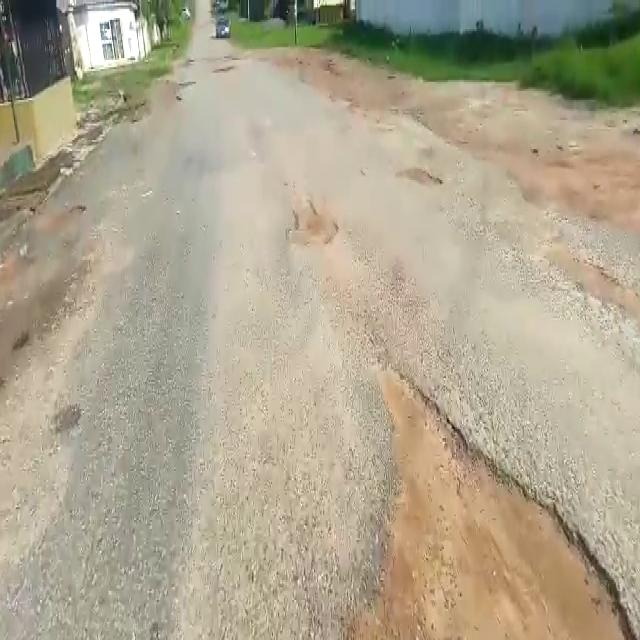Pothole: (341, 365, 639, 640), (285, 199, 337, 249), (398, 166, 448, 191)
